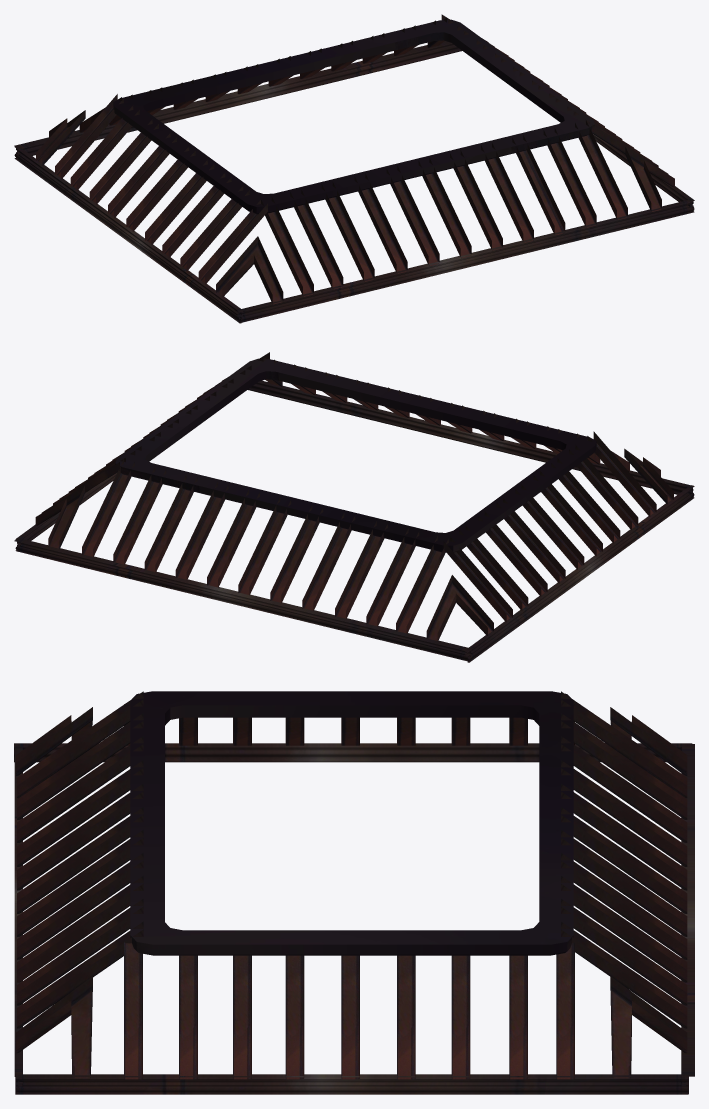
File: Kitchen_GEO_GRP1_Top_Wood.obj
The picture shows the model from 3 angles, top to bottom: view 1: azimuth 30°, elevation 25°; view 2: azimuth 150°, elevation 25°; view 3: azimuth 270°, elevation 25°; orthographic projection. The views are drawn at different scales.
Parts seen in each view (by area): view 1: Kitchen_GEO_GRP1_Top_Wood; view 2: Kitchen_GEO_GRP1_Top_Wood; view 3: Kitchen_GEO_GRP1_Top_Wood.
Boxes of the visible parts, bbox=[...] form: Kitchen_GEO_GRP1_Top_Wood: bbox=[14, 14, 694, 323]; Kitchen_GEO_GRP1_Top_Wood: bbox=[14, 352, 694, 662]; Kitchen_GEO_GRP1_Top_Wood: bbox=[14, 691, 694, 1094].
Size of the model in its own units: 7.28 by 1.19 by 6.27.
1 material, 1 textured.
